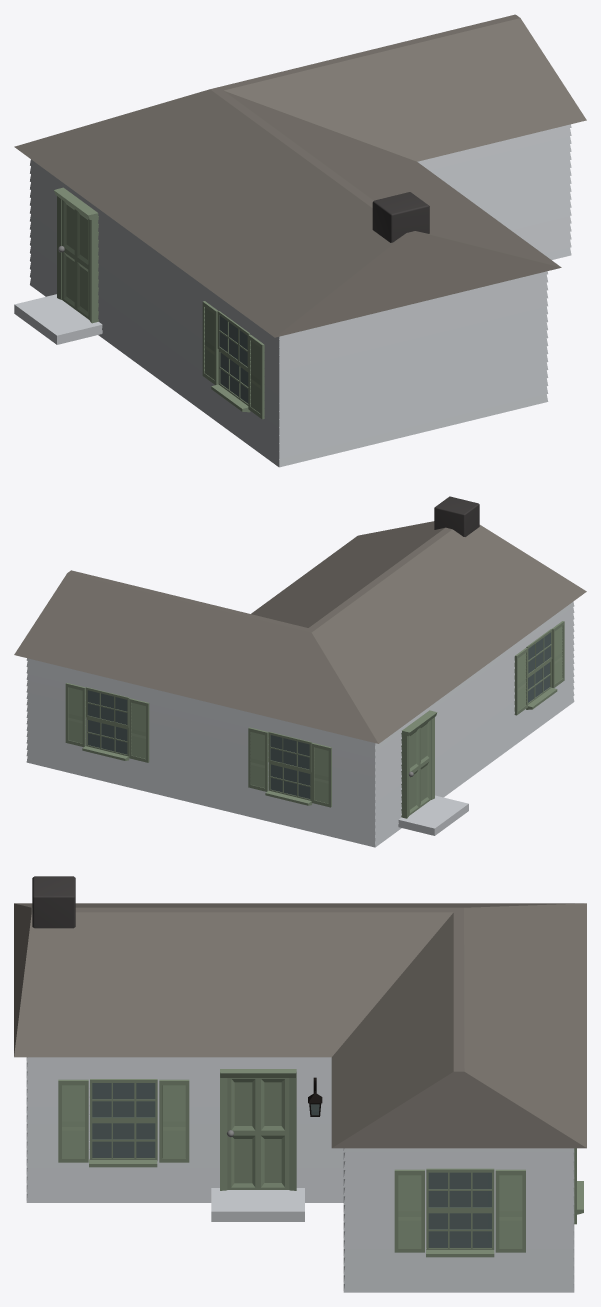
File: seabiscuit_house.fbx
3 renders of one model, top to bottom at view 1: azimuth 30°, elevation 25°; view 2: azimuth 150°, elevation 25°; view 3: azimuth 270°, elevation 25°, orthographic. The views are drawn at different scales.
Parts seen in each view (by area): view 1: house2_base1, front_door, front_door_stoop, chimney1, front_door_frame, window_panel_r, window_panel_l, window_glass, window_glass1, window_boxes; view 2: house2_base1, window_panel_l (×3), window_panel_r (×3), window_glass (×3), window_glass1 (×3), front_door, front_door_stoop, chimney1, front_door_frame, window_boxes (×2), window_boxes1 (×2); view 3: house2_base1, front_door, window_panel_l (×2), window_panel_r (×2), window_glass (×2), window_glass1 (×2), front_door_stoop, front_door_frame, chimney1, window_boxes (×2), window_boxes1 (×2), sill_3 (+1 smaller).
Boxes of the visible parts, x1,y1,x2,y2 form: house2_base1: (14, 14, 586, 467); front_door: (62, 200, 89, 319); front_door_stoop: (14, 294, 102, 344); chimney1: (372, 192, 429, 242); front_door_frame: (54, 187, 98, 323); window_panel_r: (248, 334, 264, 419); window_panel_l: (202, 301, 218, 384); window_glass: (219, 315, 247, 366); window_glass1: (220, 352, 248, 403); window_boxes: (217, 311, 249, 370); house2_base1: (14, 521, 586, 847); window_panel_l (×3): (65, 648, 527, 791); window_panel_r (×3): (129, 621, 564, 807); window_glass (×3): (87, 632, 550, 769); window_glass1 (×3): (88, 662, 549, 798); front_door: (409, 720, 430, 815); front_door_stoop: (398, 795, 468, 835); chimney1: (434, 496, 479, 536); front_door_frame: (401, 710, 437, 818); window_boxes (×2): (86, 687, 311, 772); window_boxes1 (×2): (86, 717, 311, 800); house2_base1: (14, 903, 586, 1292); front_door: (227, 1078, 289, 1189); window_panel_l (×2): (58, 1079, 424, 1252); window_panel_r (×2): (159, 1079, 525, 1252); window_glass (×2): (92, 1083, 491, 1207); window_glass1 (×2): (92, 1123, 491, 1247); front_door_stoop: (211, 1188, 304, 1221); front_door_frame: (220, 1069, 296, 1190); chimney1: (32, 876, 75, 928); window_boxes (×2): (90, 1079, 494, 1210); window_boxes1 (×2): (90, 1121, 494, 1249); sill_3: (89, 1159, 157, 1167).
Bounding box in the file's own units: 55.35 × 23.97 × 50.86.
